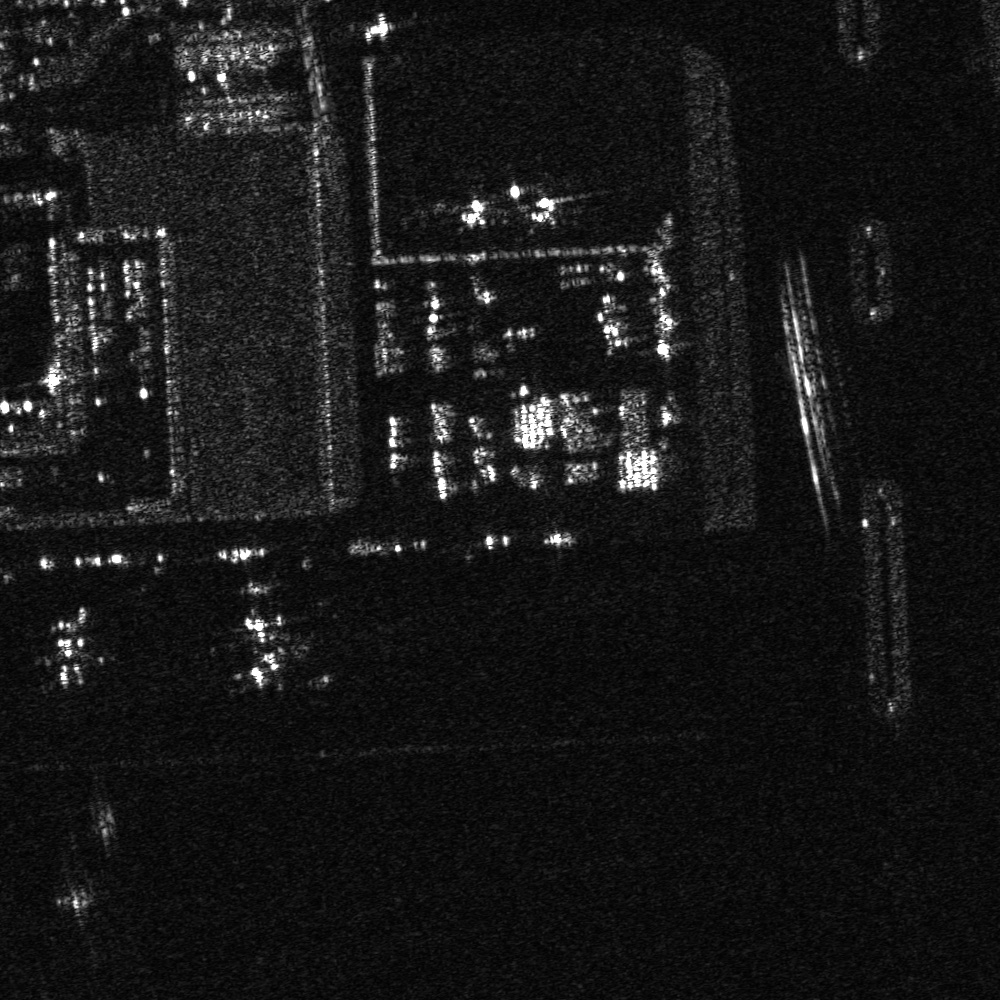ARJ21: (442, 179, 507, 236)
Boeing737: (29, 608, 120, 692)
other: (220, 607, 315, 697), (512, 182, 583, 234)
